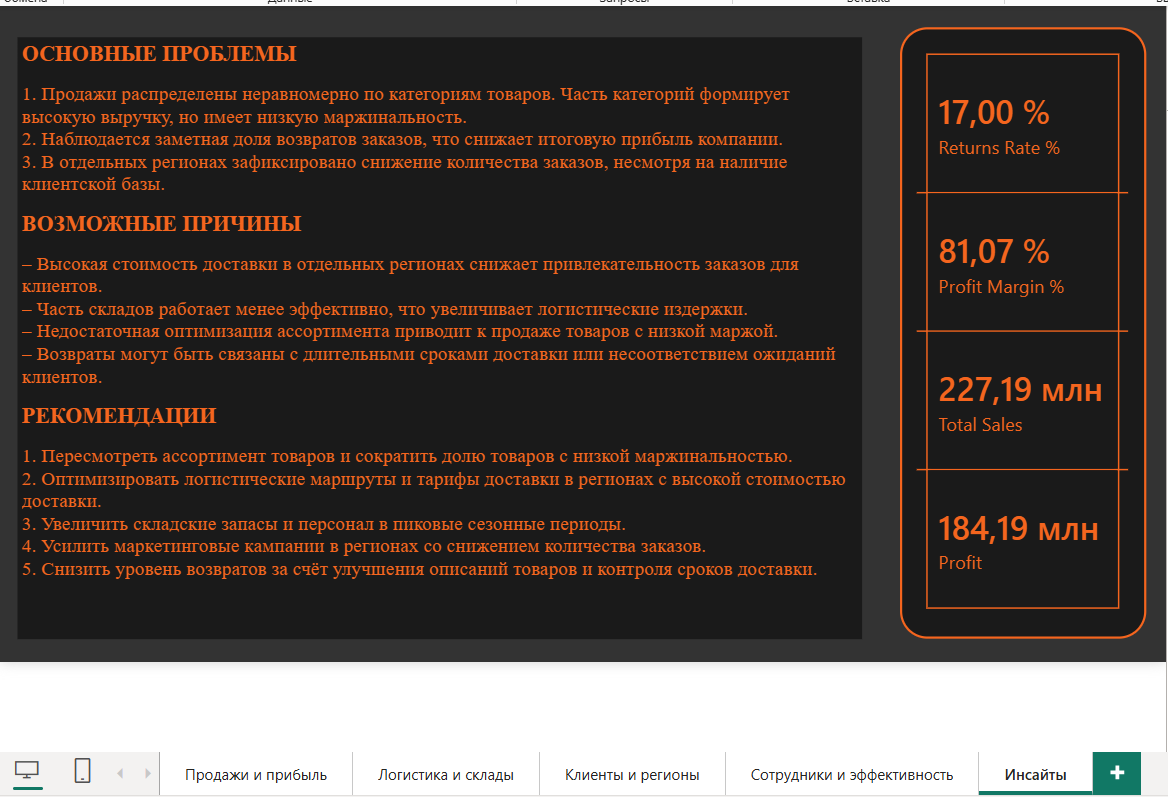

What the dashboard file says about the page in this screenshot:
{"tool":"powerbi","page":{"name":"Инсайты","canvas":[1280,720],"ordinal":4},"visuals":[{"type":"cardVisual","fields":{"Data":["Меры.Returns Rate %","Меры.Profit Margin %","Меры.Total Sales","Меры.Profit"]},"box":[987.4,23.5,270.8,671.1],"z":1},{"type":"textbox","box":[19.1,33.8,927.1,660.8],"z":4}]}

Visuals, with their boxes on the page's 1280x720 design canvas (x1, y1, x2, y2). These are canvas units, not pixel positions in the 1168x797 screenshot, which may show the page scaled, cropped or inside an application window:
cardVisual - Меры.Returns Rate % x Меры.Profit Margin %: l=987, t=24, r=1258, b=695
textbox: l=19, t=34, r=946, b=695
